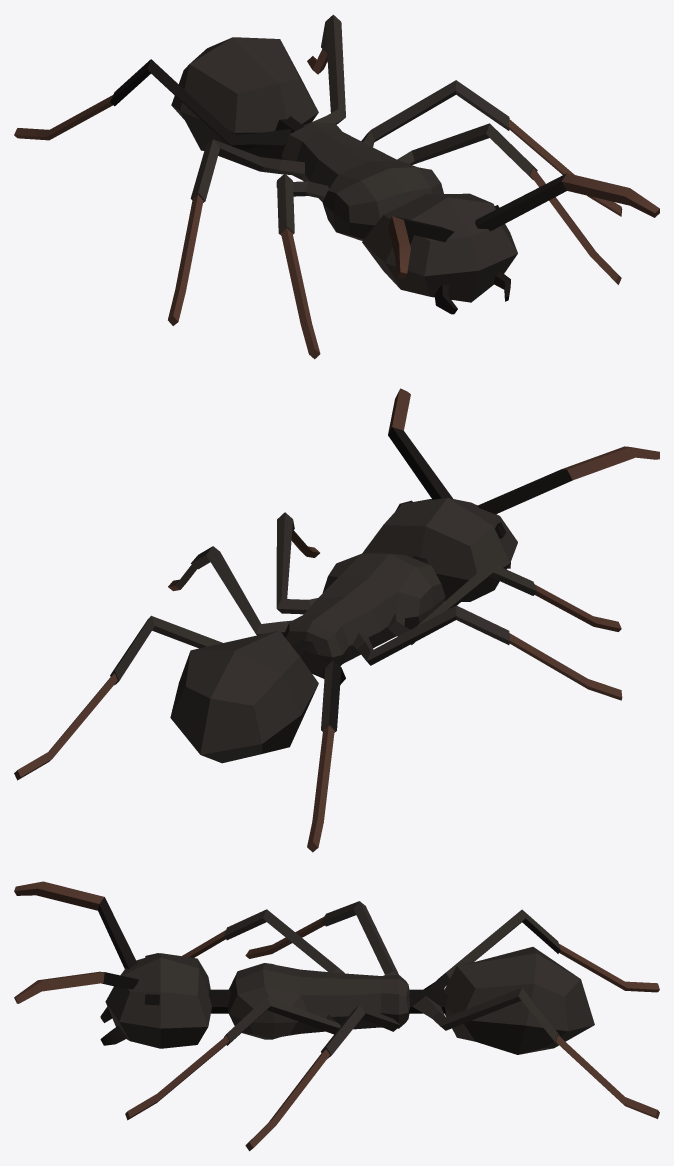
Rendered from Mesh_Ant.obj.
3 views of the same model, one above another, from view 1: azimuth 30°, elevation 25°; view 2: azimuth 150°, elevation 25°; view 3: azimuth 270°, elevation 25° (orthographic). The views are drawn at different scales.
Visible parts, largest first — view 1: Geo_Ant; view 2: Geo_Ant; view 3: Geo_Ant.
Part boxes in pixels (left/top/right/bottom): Geo_Ant: left=14, top=14, right=659, bottom=359; Geo_Ant: left=14, top=388, right=659, bottom=852; Geo_Ant: left=14, top=881, right=659, bottom=1151.
Bounding box in the file's own units: 49.32 × 14.72 × 69.04.
1 material, 1 textured.
